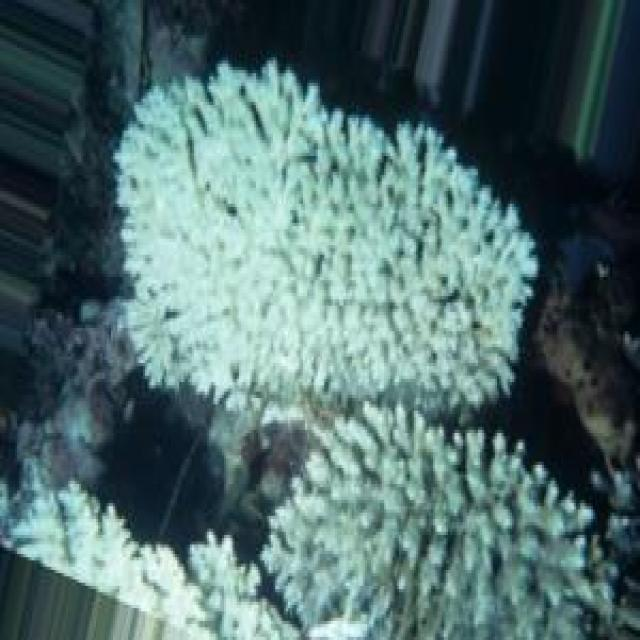bleached coral: (211, 118, 326, 201), (166, 287, 260, 385), (23, 497, 128, 570), (139, 143, 222, 229), (273, 369, 386, 430), (190, 538, 254, 640), (384, 255, 450, 344), (284, 487, 380, 548), (416, 446, 474, 544), (277, 242, 337, 325), (329, 146, 403, 213)
